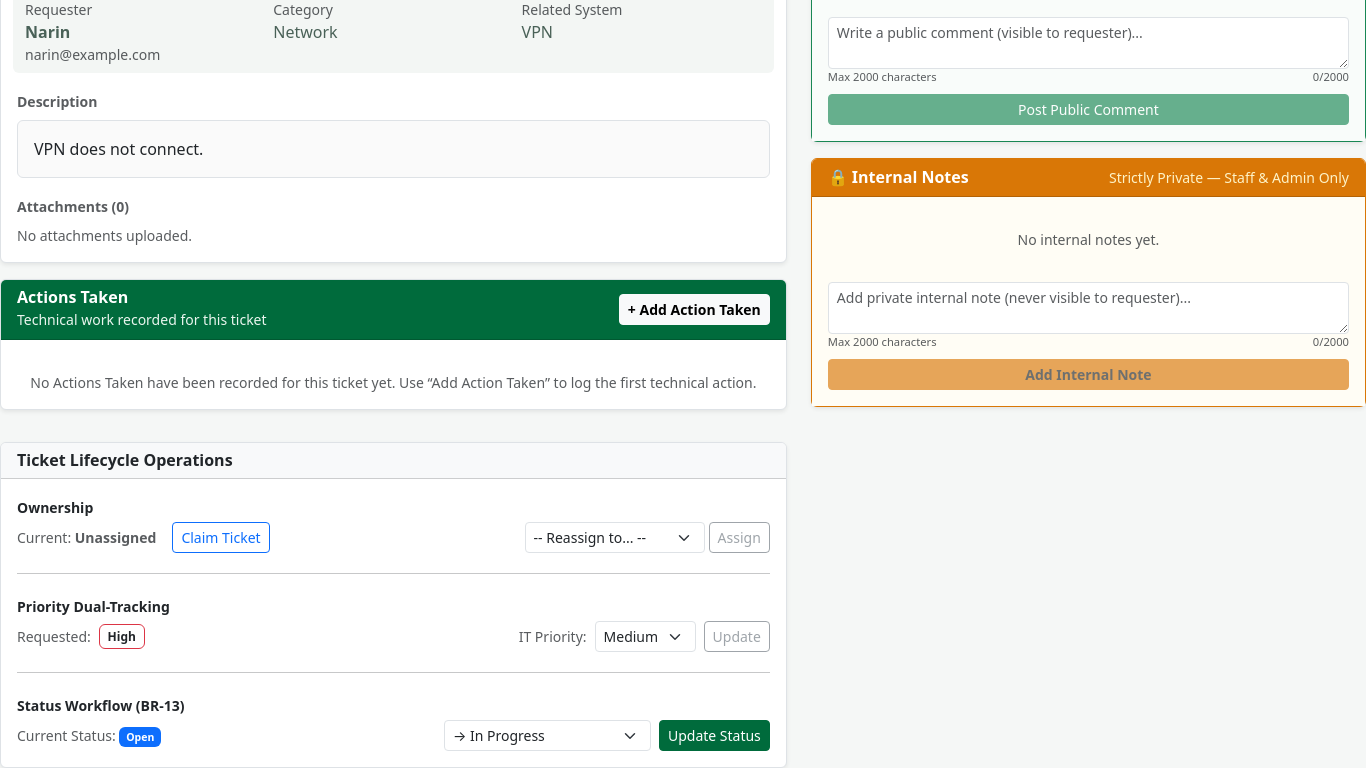
Test: Ticket workflow actions (backend enforced, UI exposed) › surfaces backend invalid-transition rejections (authoritative enforcement)
The image size is (1366, 768).
(page scrolled)
Select "→ Resolved" in the dropdown named "next status" at {"x": 547, "y": 736}, box top-left (444, 720), bottom-right (651, 751)
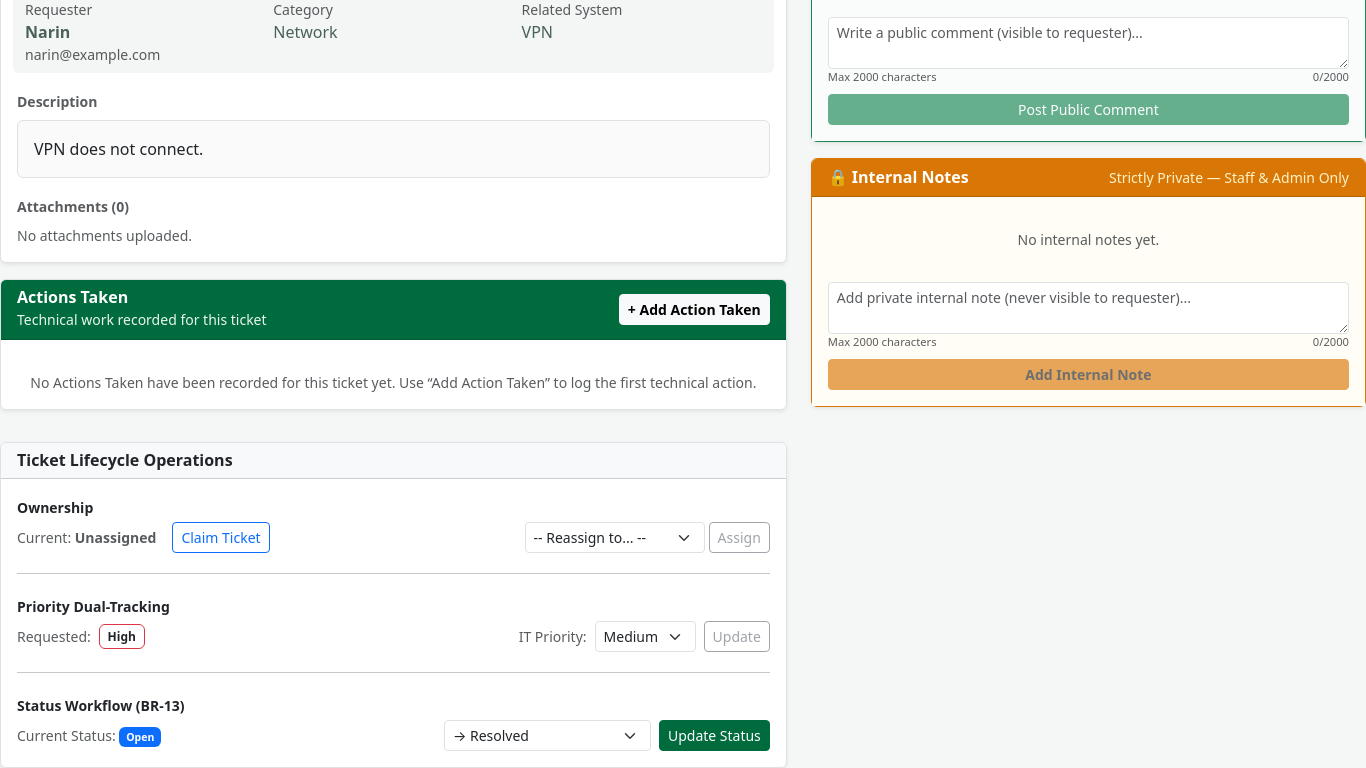
Click the button "Update Status" at {"x": 714, "y": 736}, box top-left (659, 720), bottom-right (770, 751)
(page scrolled)
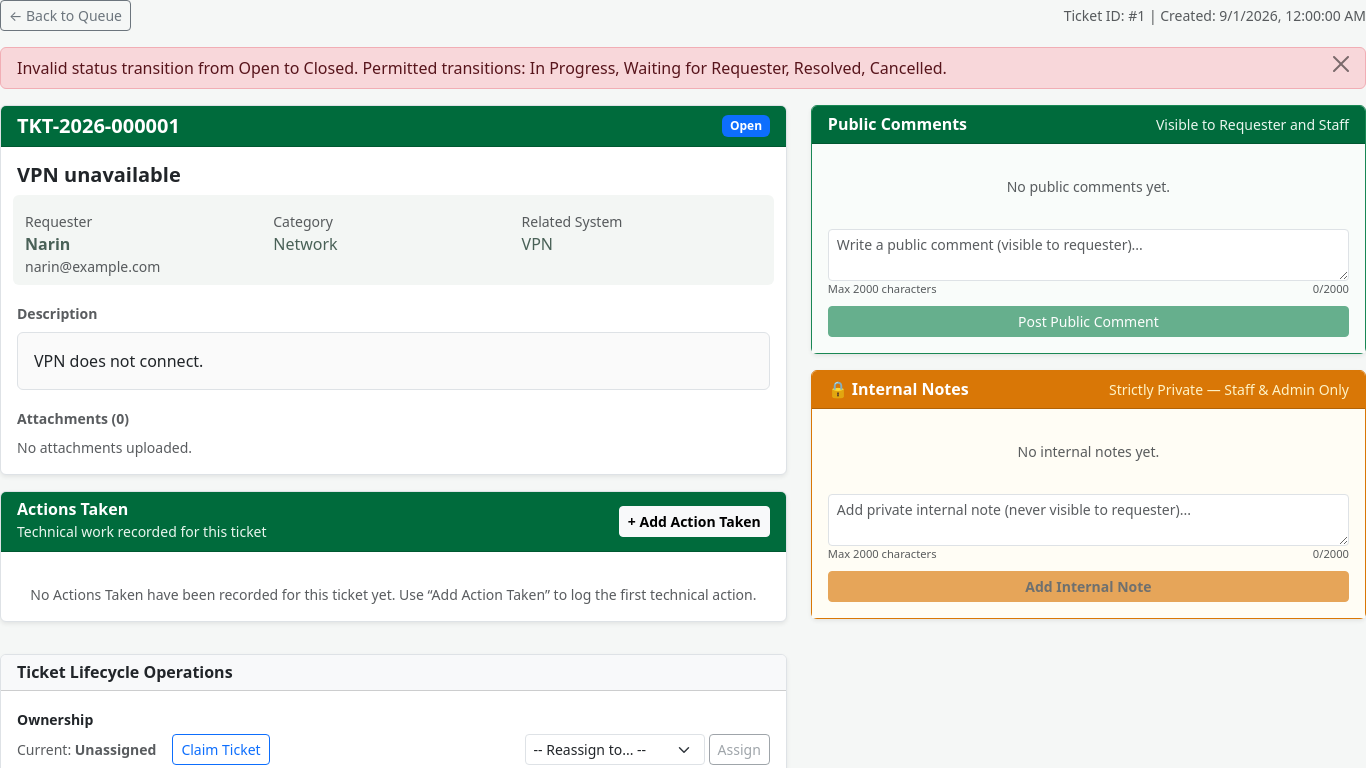
Expected: the text "Invalid status transition" is shown, top-left (17, 57), bottom-right (947, 79)
